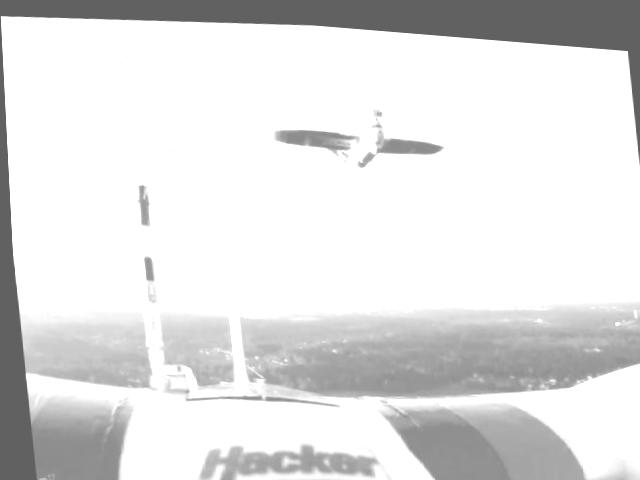hedef: (258, 79, 448, 199)
